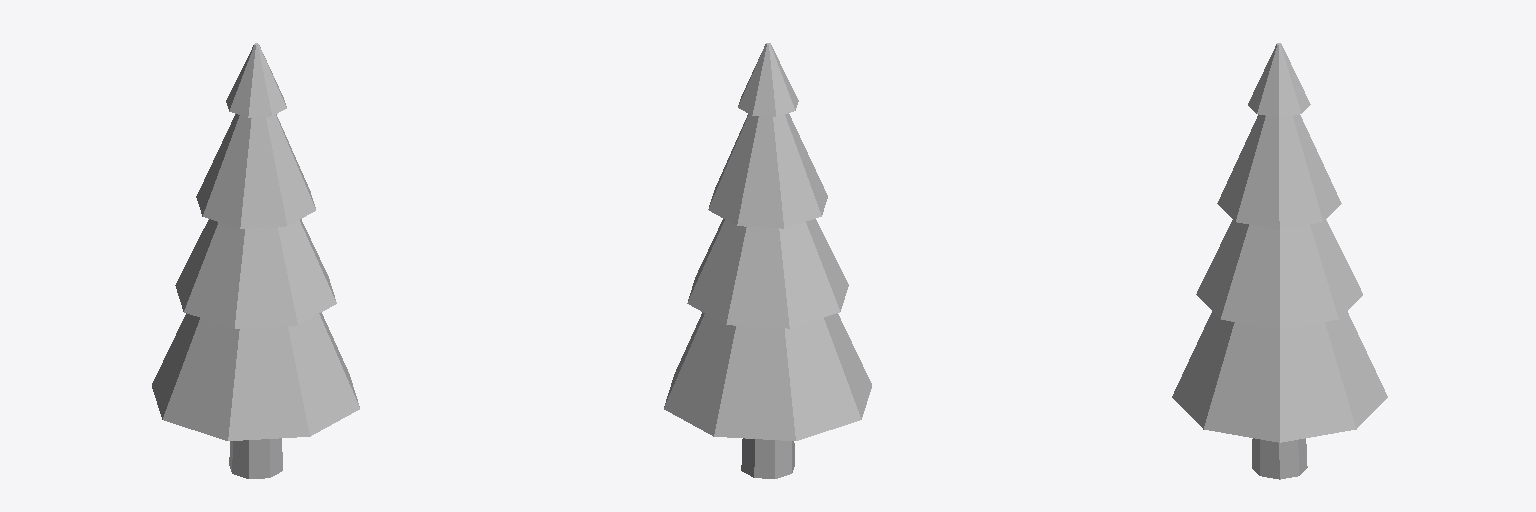
File: pine.obj
3 views of the same model, side by side, from view 1: azimuth 30°, elevation 25°; view 2: azimuth 150°, elevation 25°; view 3: azimuth 270°, elevation 25° (orthographic).
Parts seen in each view (by area): view 1: Cylinder; view 2: Cylinder; view 3: Cylinder.
Part boxes in pixels (x1,y1,x2,y2): Cylinder: (152, 43, 359, 478); Cylinder: (664, 43, 871, 478); Cylinder: (1172, 43, 1387, 479).
Bounding box in the file's own units: 2.07 × 4.47 × 2.07.